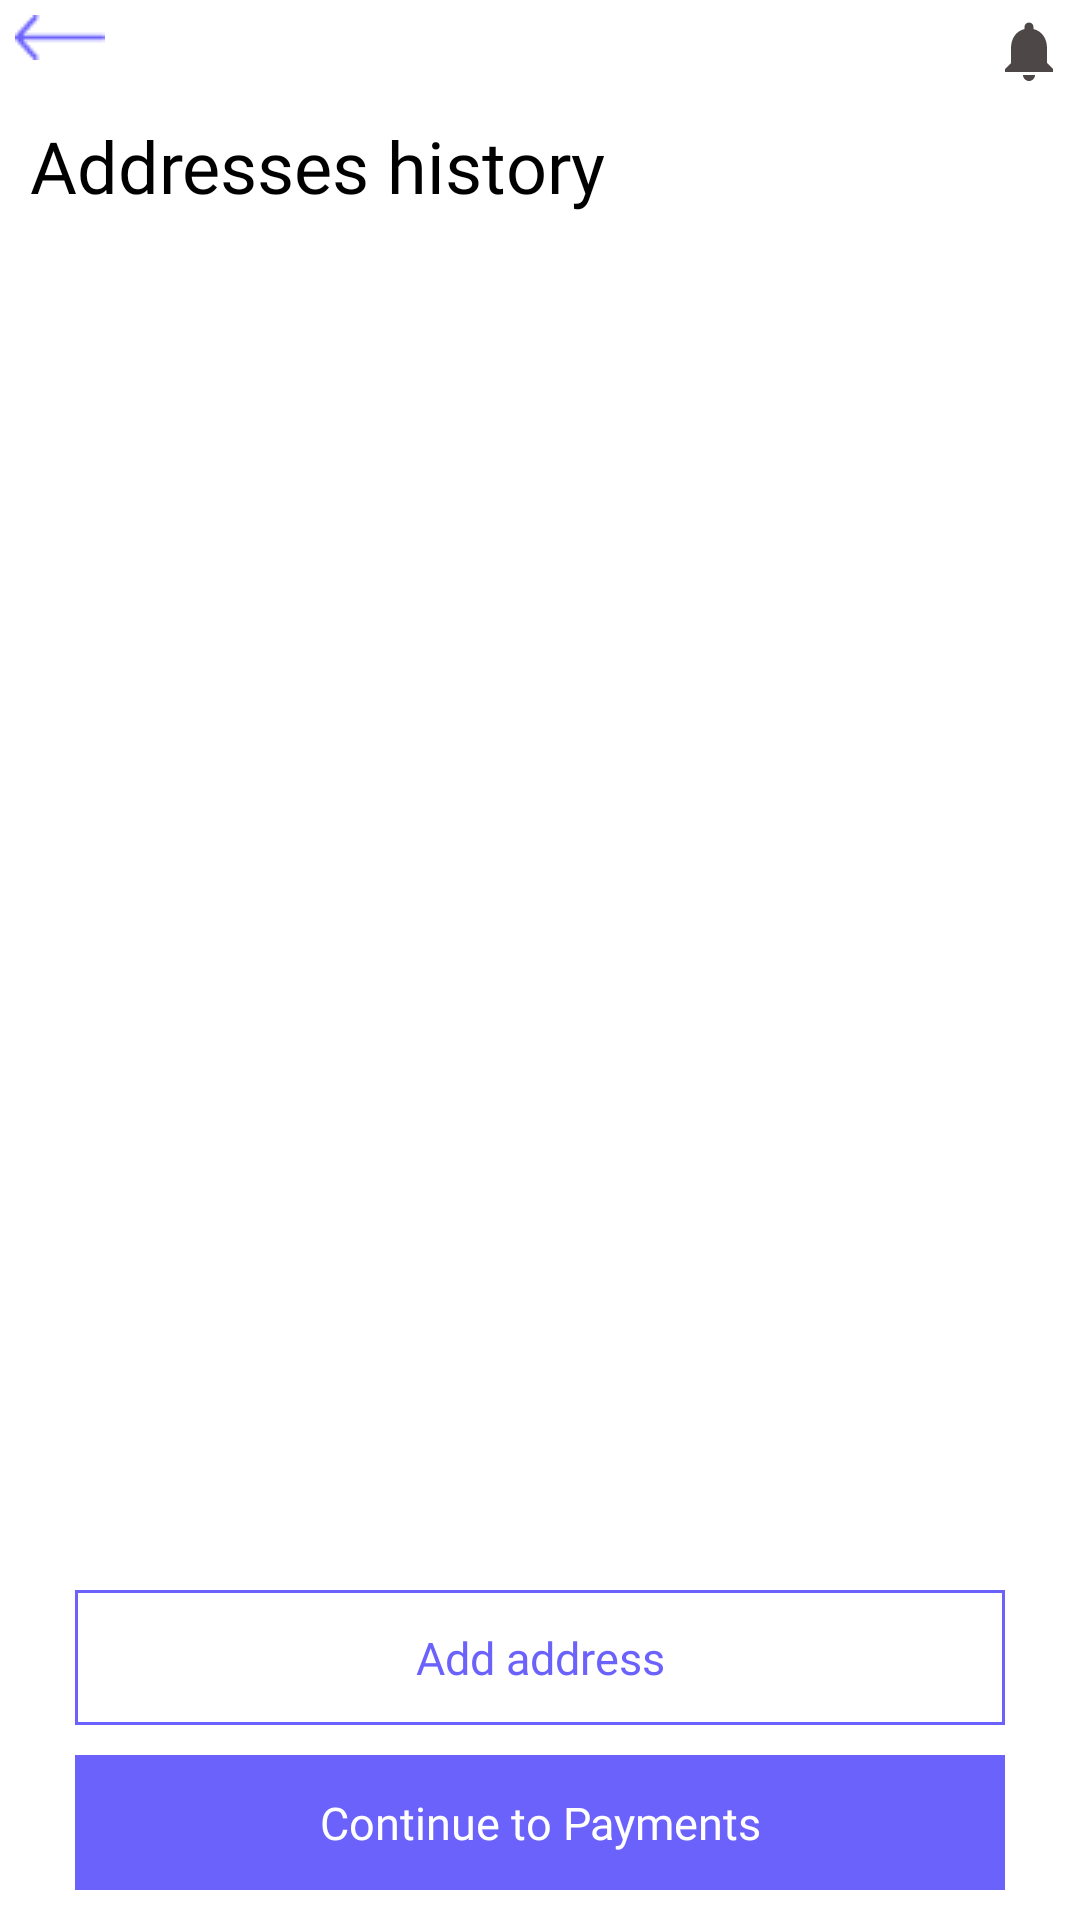

Where icons sit on this 1080*1920 app screen, as (x1, y1, x2, y2):
back arrow: (15, 15, 105, 60)
notifications: (1005, 22, 1053, 81)
